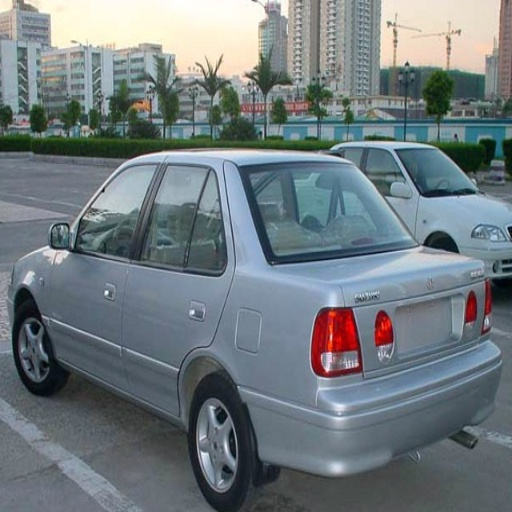back_bumper: (245, 335, 503, 478)
back_glass: (242, 166, 413, 262)
back_left_door: (123, 162, 233, 414)
back_left_light: (311, 308, 341, 375)
tailgate: (363, 247, 489, 349)
trunk: (320, 256, 478, 379)
